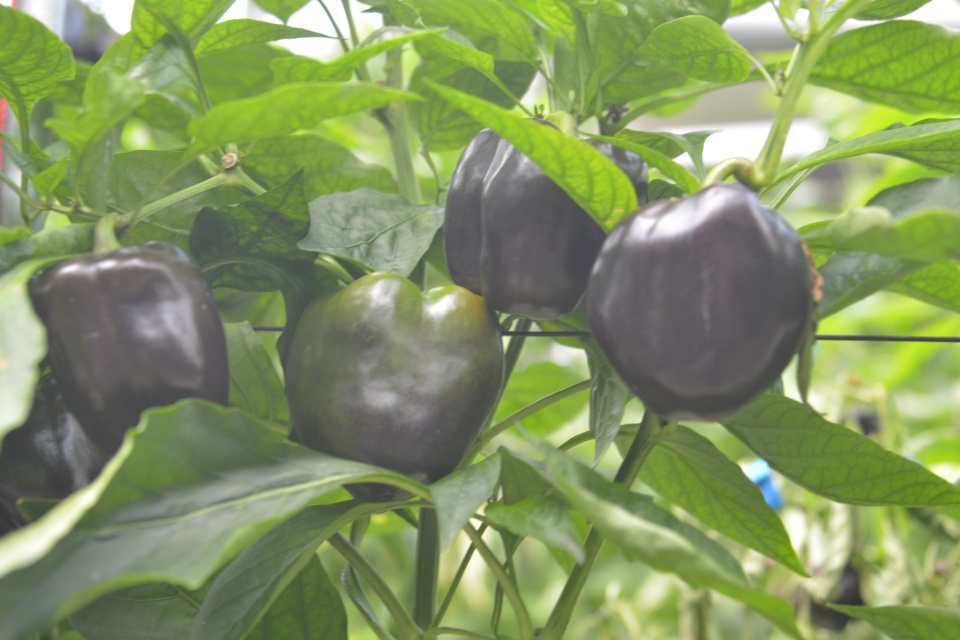fruit: (0, 238, 231, 540), (585, 177, 812, 425), (280, 265, 507, 505), (440, 115, 650, 324)
